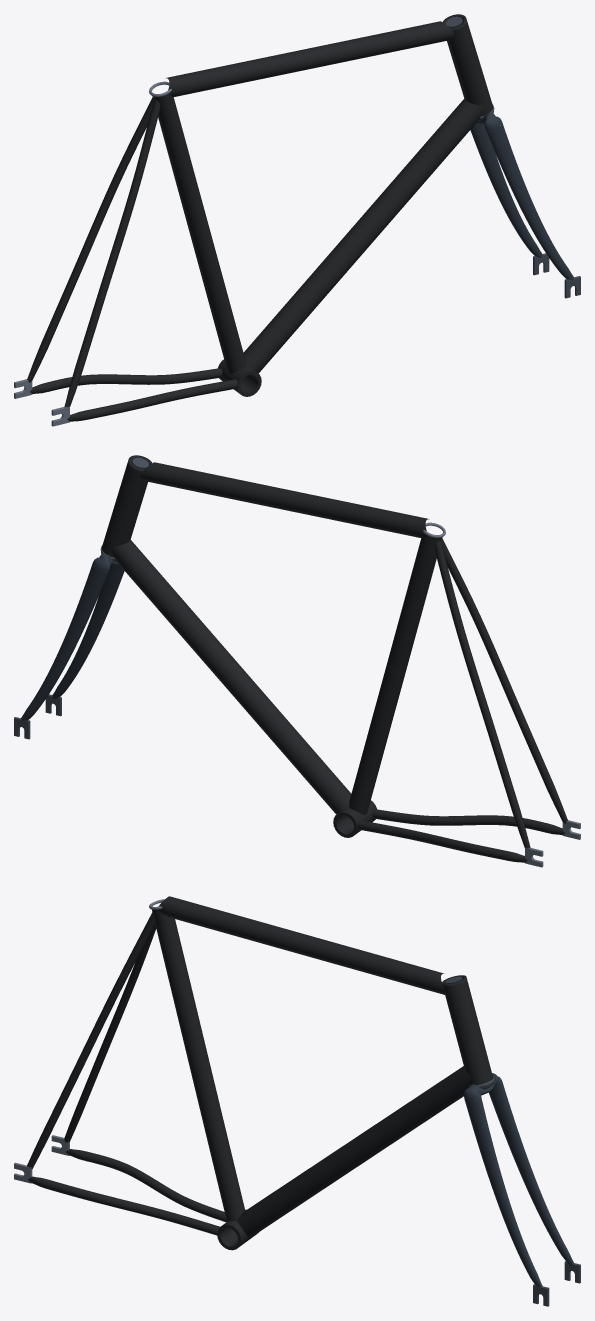
File: dosnoventa-02-la-l.glb
The picture shows the model from 3 angles, top to bottom: view 1: azimuth 30°, elevation 25°; view 2: azimuth 150°, elevation 25°; view 3: azimuth 330°, elevation 25°; orthographic projection.
Parts seen in each view (by area): view 1: paint_down, paint_top, paint_seat, paint_seatstay_1, paint_seatstay_-1, fork_blade_1, paint_head, fork_blade_-1, paint_chainstay_-1, paint_chainstay_1, paint_bottom_bracket; view 2: paint_down, paint_top, paint_seat, paint_seatstay_-1, paint_seatstay_1, fork_blade_-1, paint_head, fork_blade_1, paint_chainstay_1, paint_chainstay_-1, paint_bottom_bracket; view 3: paint_down, paint_seat, paint_top, paint_head, fork_blade_1, fork_blade_-1, paint_seatstay_1, paint_chainstay_1, paint_seatstay_-1, paint_chainstay_-1, paint_bottom_bracket.
Part boxes in pixels (x1,y1,x2,y2): paint_down: (243, 99, 484, 373); paint_top: (165, 21, 454, 96); paint_seat: (152, 94, 245, 373); paint_seatstay_1: (64, 99, 160, 407); paint_seatstay_-1: (27, 97, 153, 382); fork_blade_1: (486, 123, 574, 280); paint_head: (442, 14, 493, 116); fork_blade_-1: (470, 123, 542, 257); paint_chainstay_-1: (30, 368, 222, 393); paint_chainstay_1: (67, 379, 237, 421); paint_bottom_bracket: (218, 359, 261, 396); paint_down: (110, 540, 351, 814); paint_top: (140, 462, 429, 537); paint_seat: (349, 535, 442, 814); paint_seatstay_-1: (434, 540, 530, 848); paint_seatstay_1: (441, 538, 567, 823); fork_blade_-1: (20, 564, 108, 721); paint_head: (102, 455, 152, 557); fork_blade_1: (52, 564, 124, 698); paint_chainstay_1: (372, 809, 564, 834); paint_chainstay_-1: (357, 820, 527, 862); paint_bottom_bracket: (333, 800, 376, 837); paint_down: (237, 1066, 471, 1238); paint_seat: (152, 909, 245, 1221); paint_top: (158, 896, 444, 994); paint_head: (442, 975, 492, 1085); fork_blade_1: (465, 1098, 542, 1287); fork_blade_-1: (488, 1082, 574, 1265); paint_seatstay_1: (27, 912, 154, 1169); paint_chainstay_1: (28, 1176, 220, 1235); paint_seatstay_-1: (64, 924, 156, 1142); paint_chainstay_-1: (66, 1149, 226, 1222); paint_bottom_bracket: (217, 1209, 258, 1250).
Size of the model in its own units: 1.02 by 0.5998 by 0.1447.
